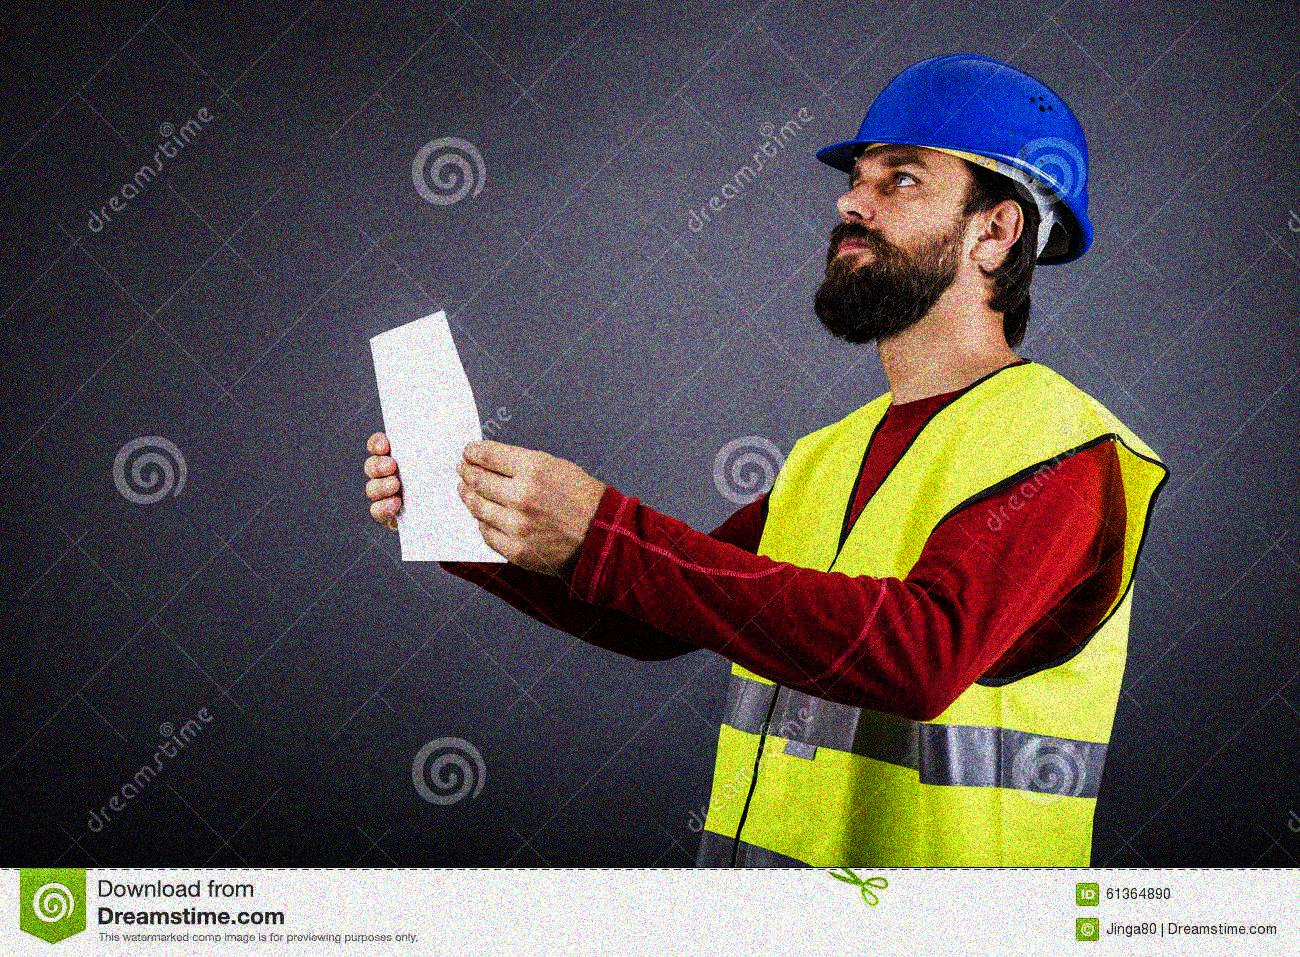helmet: (816, 54, 1098, 341)
